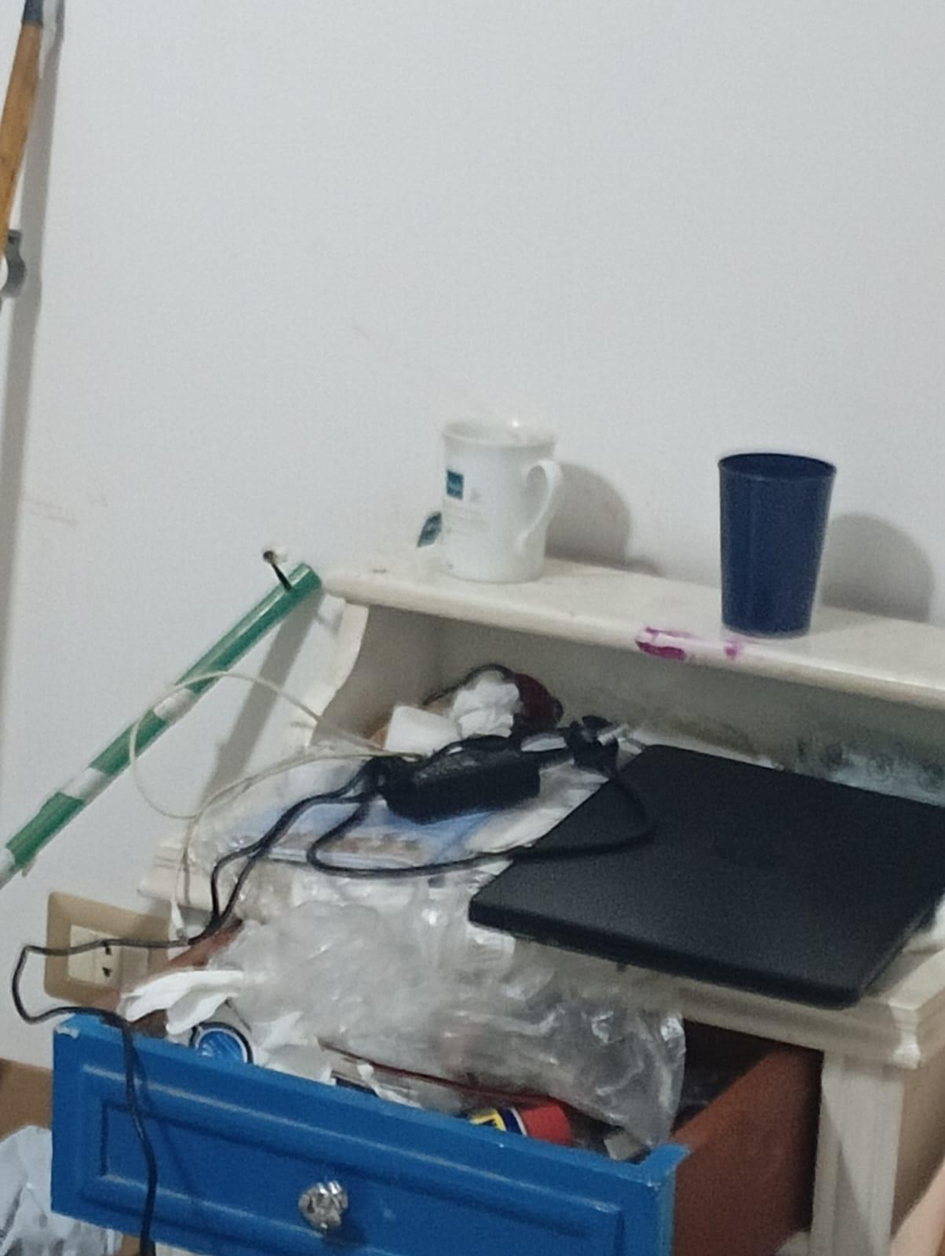cup: (719, 452, 835, 636), (441, 420, 562, 582)
